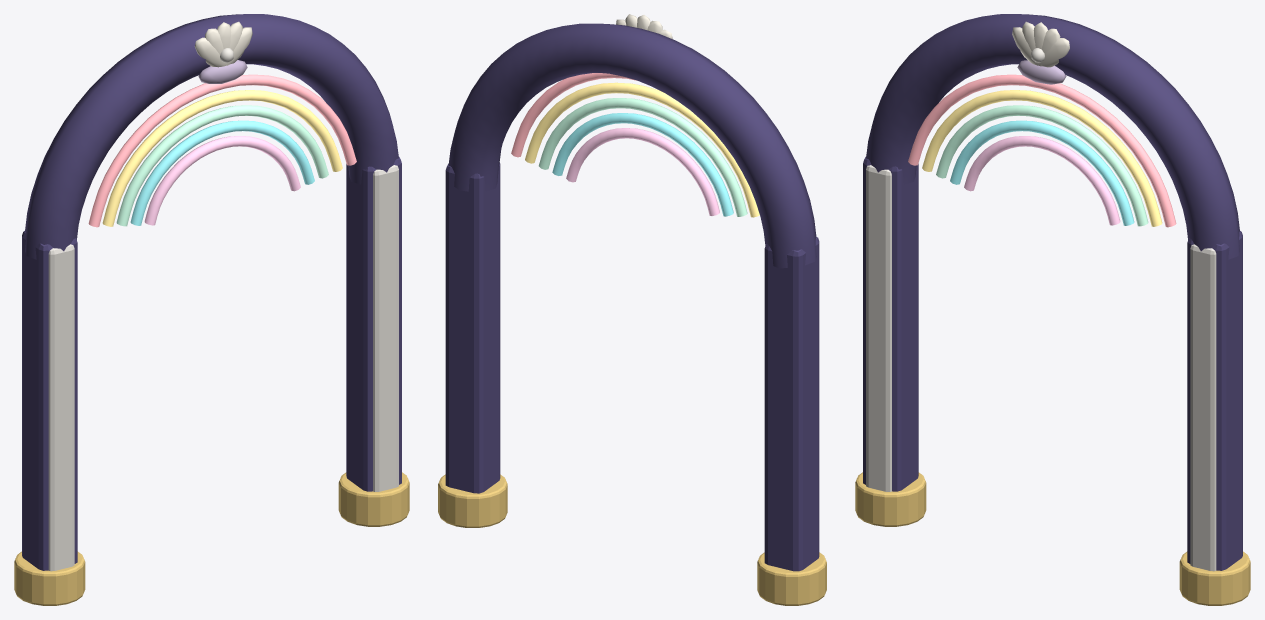
The model's file is pearl_throne_canopy.glb.
The picture shows the model from 3 angles, left to right: view 1: azimuth 30°, elevation 25°; view 2: azimuth 150°, elevation 25°; view 3: azimuth 330°, elevation 25°; orthographic projection.
Parts seen in each view (by area): view 1: pearl_throne_canopy.001; view 2: pearl_throne_canopy.001; view 3: pearl_throne_canopy.001.
Part boxes in pixels (x1=…): pearl_throne_canopy.001: x1=14, y1=14, x2=409, y2=605; pearl_throne_canopy.001: x1=438, y1=14, x2=826, y2=605; pearl_throne_canopy.001: x1=855, y1=14, x2=1250, y2=605.
Bounding box in the file's own units: 15.66 × 20.97 × 2.55.
